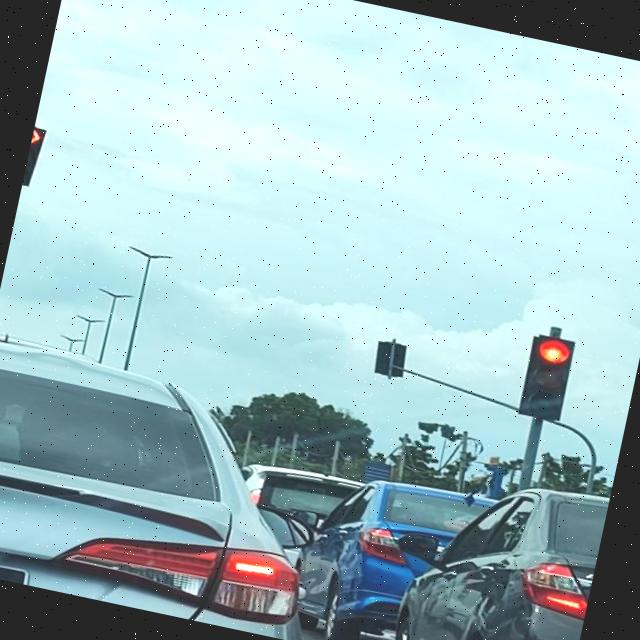red_light: (520, 334, 576, 422)
